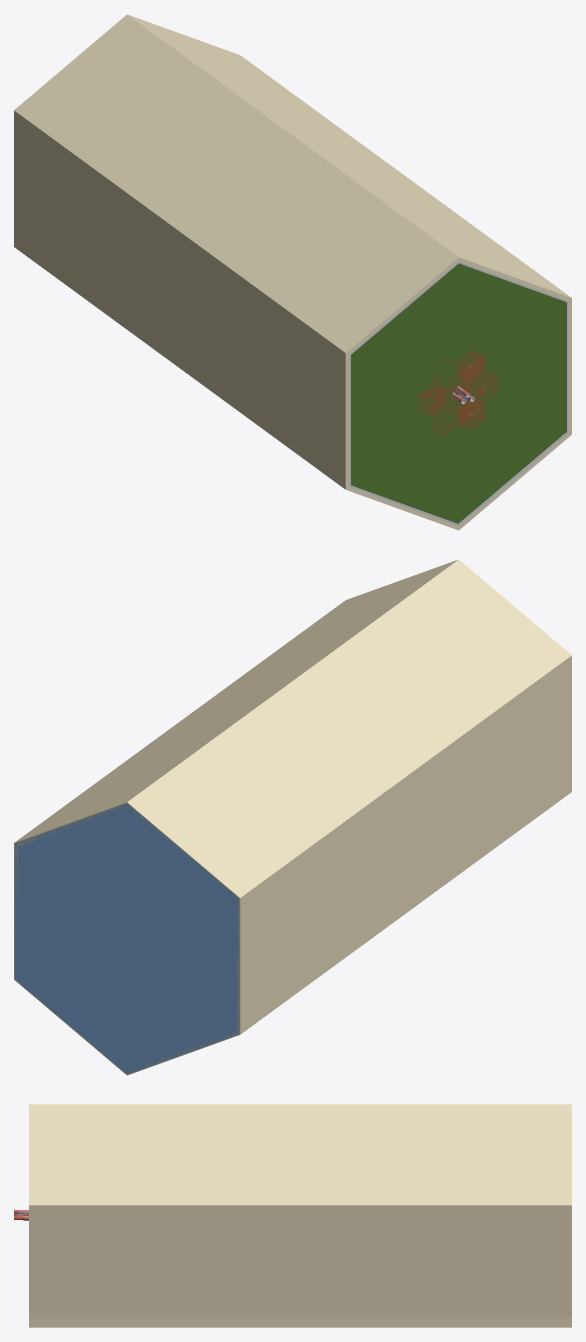
Rendered from StarCore Bundles Plugs Channels Gaps.obj.
3 renders of one model, top to bottom at view 1: azimuth 30°, elevation 25°; view 2: azimuth 150°, elevation 25°; view 3: azimuth 270°, elevation 25°, orthographic. The views are drawn at different scales.
Visible parts, largest first — view 1: OuterShell, TopReflector, UpperReflectorPlug, CavityLiner; view 2: OuterShell, LowerPlenum; view 3: OuterShell.
Boxes of the visible parts, x1=… form: OuterShell: x1=14, y1=14, x2=571, y2=530; TopReflector: x1=351, y1=263, x2=566, y2=523; UpperReflectorPlug: x1=418, y1=351, x2=497, y2=436; CavityLiner: x1=349, y1=262, x2=568, y2=525; OuterShell: x1=14, y1=559, x2=571, y2=1075; LowerPlenum: x1=15, y1=803, x2=239, y2=1074; OuterShell: x1=29, y1=1104, x2=571, y2=1327.
Size of the model in its own units: 3101 by 3581 by 8100.
